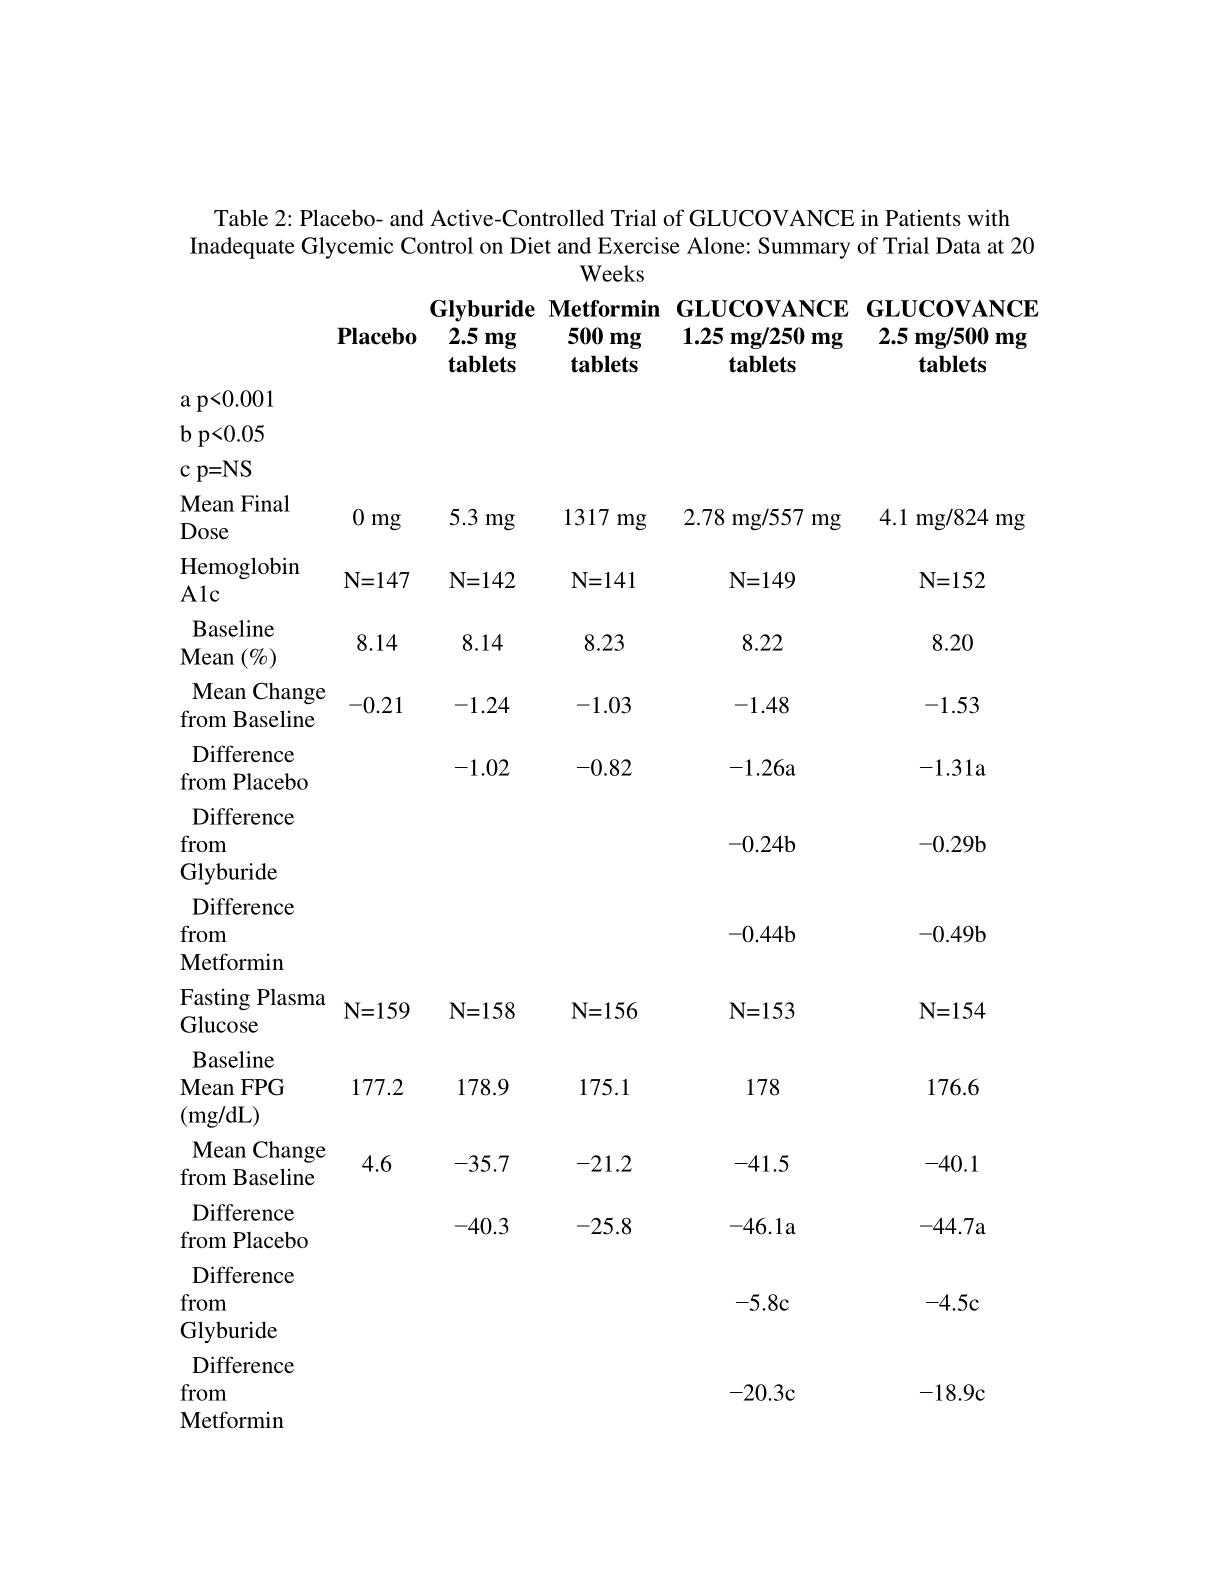nolines: (172, 293, 1044, 1432)
